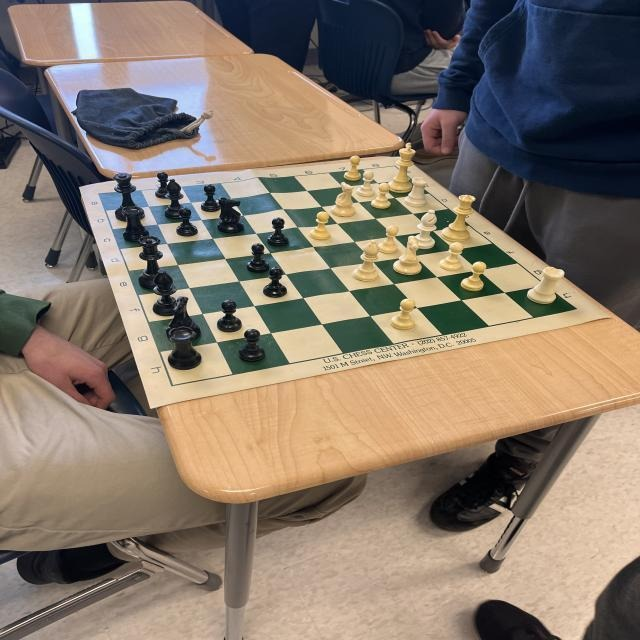black-bishop: (152, 269, 180, 317), (164, 179, 187, 219)
black-king: (113, 172, 146, 222)
black-knight: (166, 296, 201, 344), (216, 198, 245, 234)
black-pawn: (238, 327, 266, 360), (217, 299, 242, 332), (263, 266, 288, 297), (246, 243, 270, 273), (175, 207, 198, 236), (267, 217, 289, 246), (154, 172, 175, 199), (200, 184, 220, 212)
black-queen: (137, 235, 168, 289)
black-rook: (167, 326, 202, 370), (122, 206, 150, 241)
white-bishop: (352, 240, 380, 282), (412, 209, 438, 249)
white-king: (388, 142, 416, 192)
white-knight: (393, 236, 423, 276), (330, 181, 355, 217)
white-pawn: (460, 260, 487, 291), (390, 298, 415, 330), (440, 241, 464, 271), (377, 225, 399, 254), (309, 212, 330, 240), (371, 183, 391, 209), (357, 171, 375, 197), (344, 155, 362, 181)
white-queen: (440, 194, 475, 242)
white-rook: (527, 266, 565, 303), (404, 177, 427, 207)
